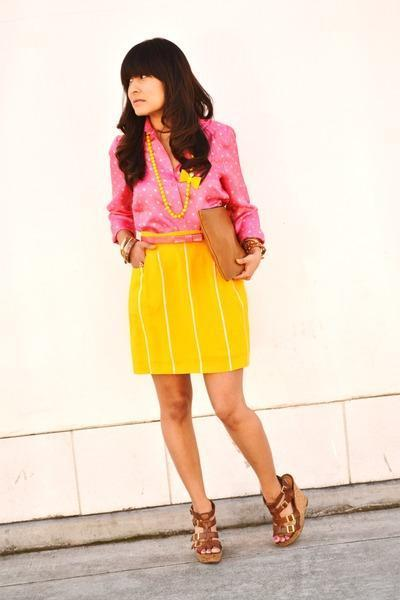bag: (185, 208, 248, 281)
shirt: (108, 108, 264, 241)
shoe: (256, 492, 299, 536)
skirt: (128, 232, 249, 384)
